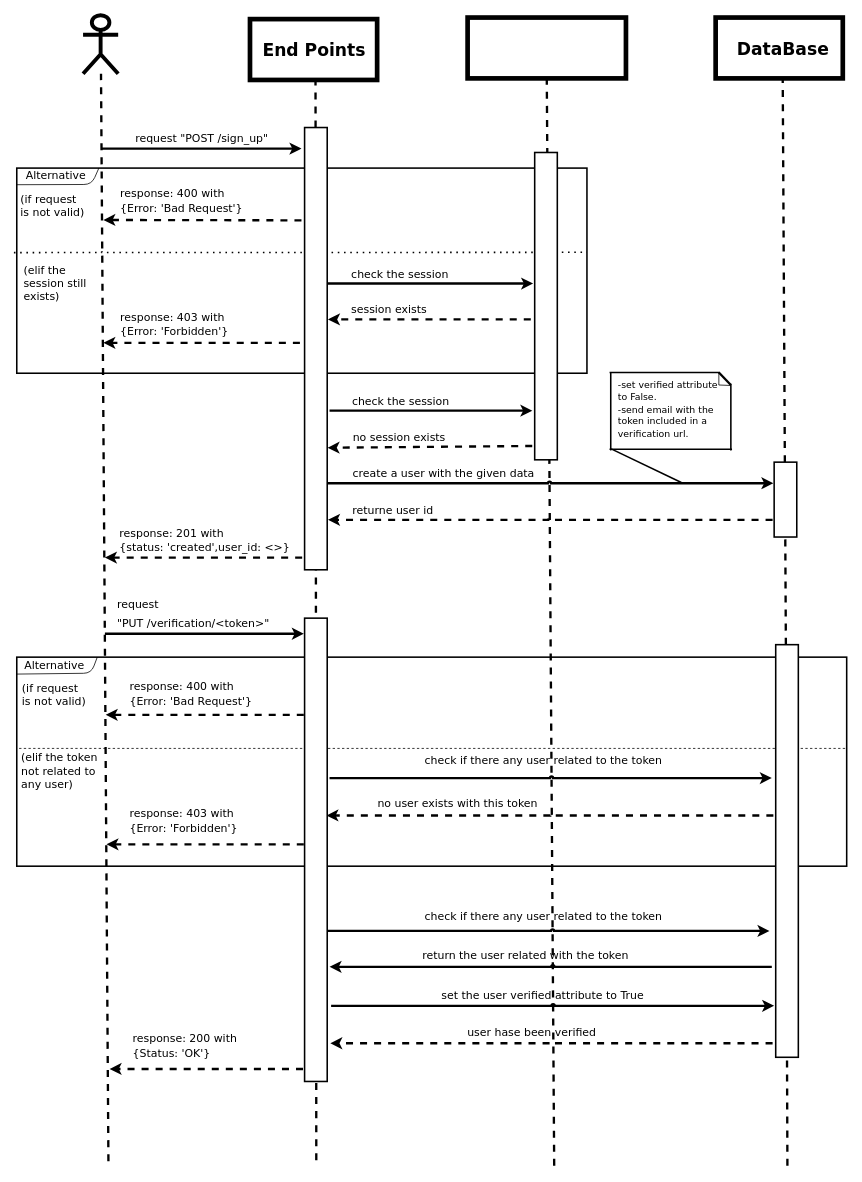
This 862x1182 diagram has some shape labels left out. The shapes that lost their labels are listed below. From the top down, each one's centre as x and y in pixels, then its label:
point (100, 44): User
point (546, 47): Authentication
